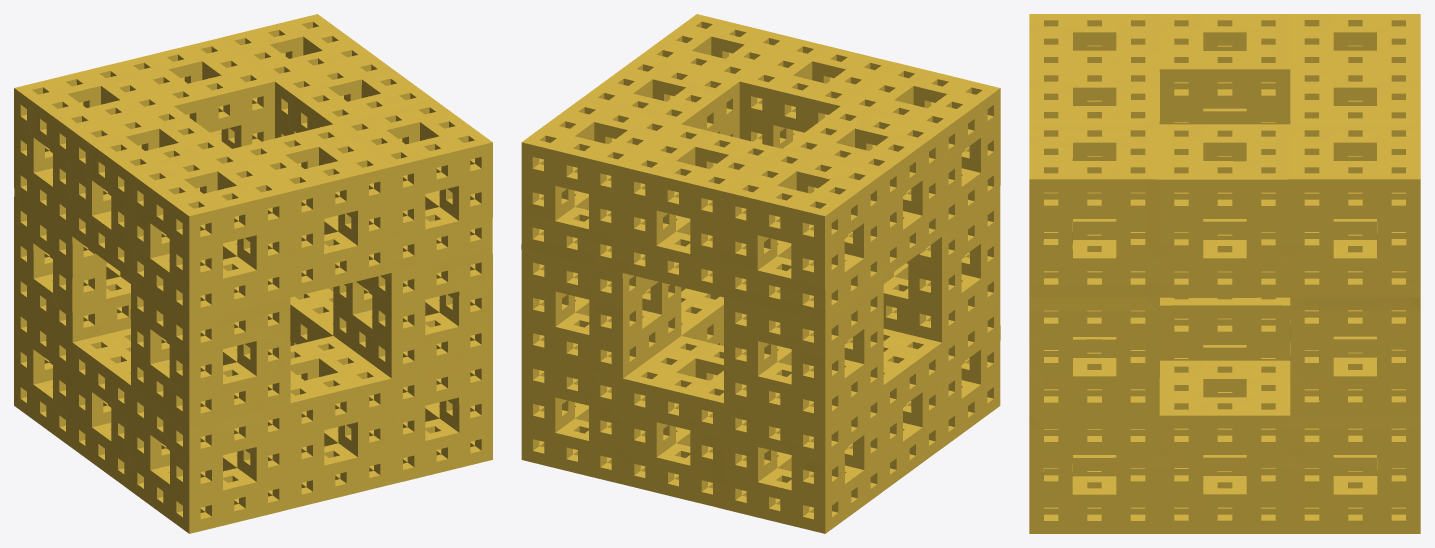
File: fractal23.glb
3 renders of one model, left to right at view 1: azimuth 30°, elevation 25°; view 2: azimuth 150°, elevation 25°; view 3: azimuth 270°, elevation 25°, orthographic. The views are drawn at different scales.
Parts seen in each view (by area): view 1: Cube.001; view 2: Cube.001; view 3: Cube.001.
Part boxes in pixels (x1=…): Cube.001: x1=14, y1=14, x2=492, y2=533; Cube.001: x1=521, y1=14, x2=1000, y2=533; Cube.001: x1=1029, y1=14, x2=1420, y2=533.
Bounding box in the file's own units: 0.1 × 0.1 × 0.1.
